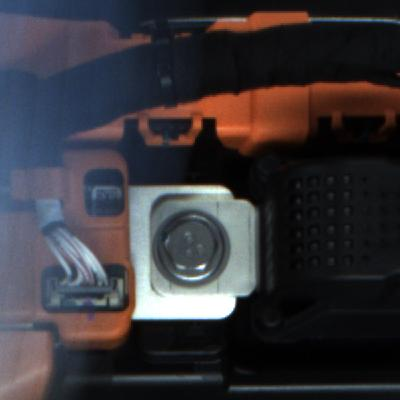nut_b: (149, 205, 224, 290)
